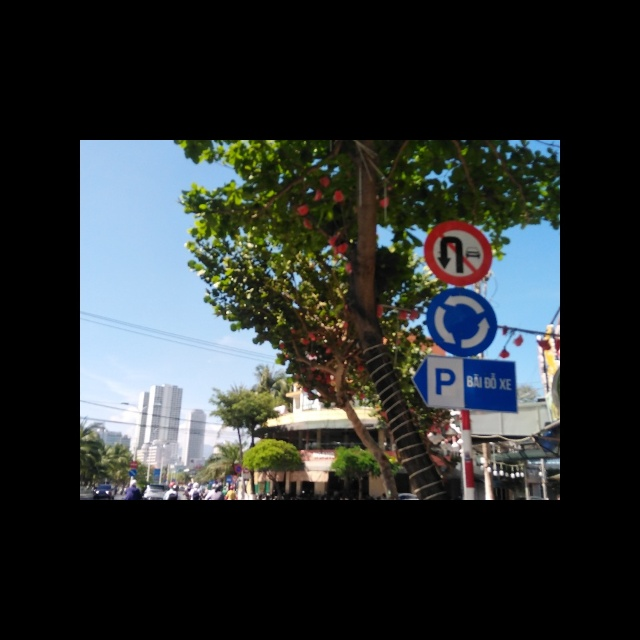Cấm xe ô tô quay đầu: (424, 221, 492, 285)
Nơi giao nhau chạy theo vòng xuyến: (428, 287, 498, 355)
Nơi đỗ xe: (409, 353, 521, 413)
